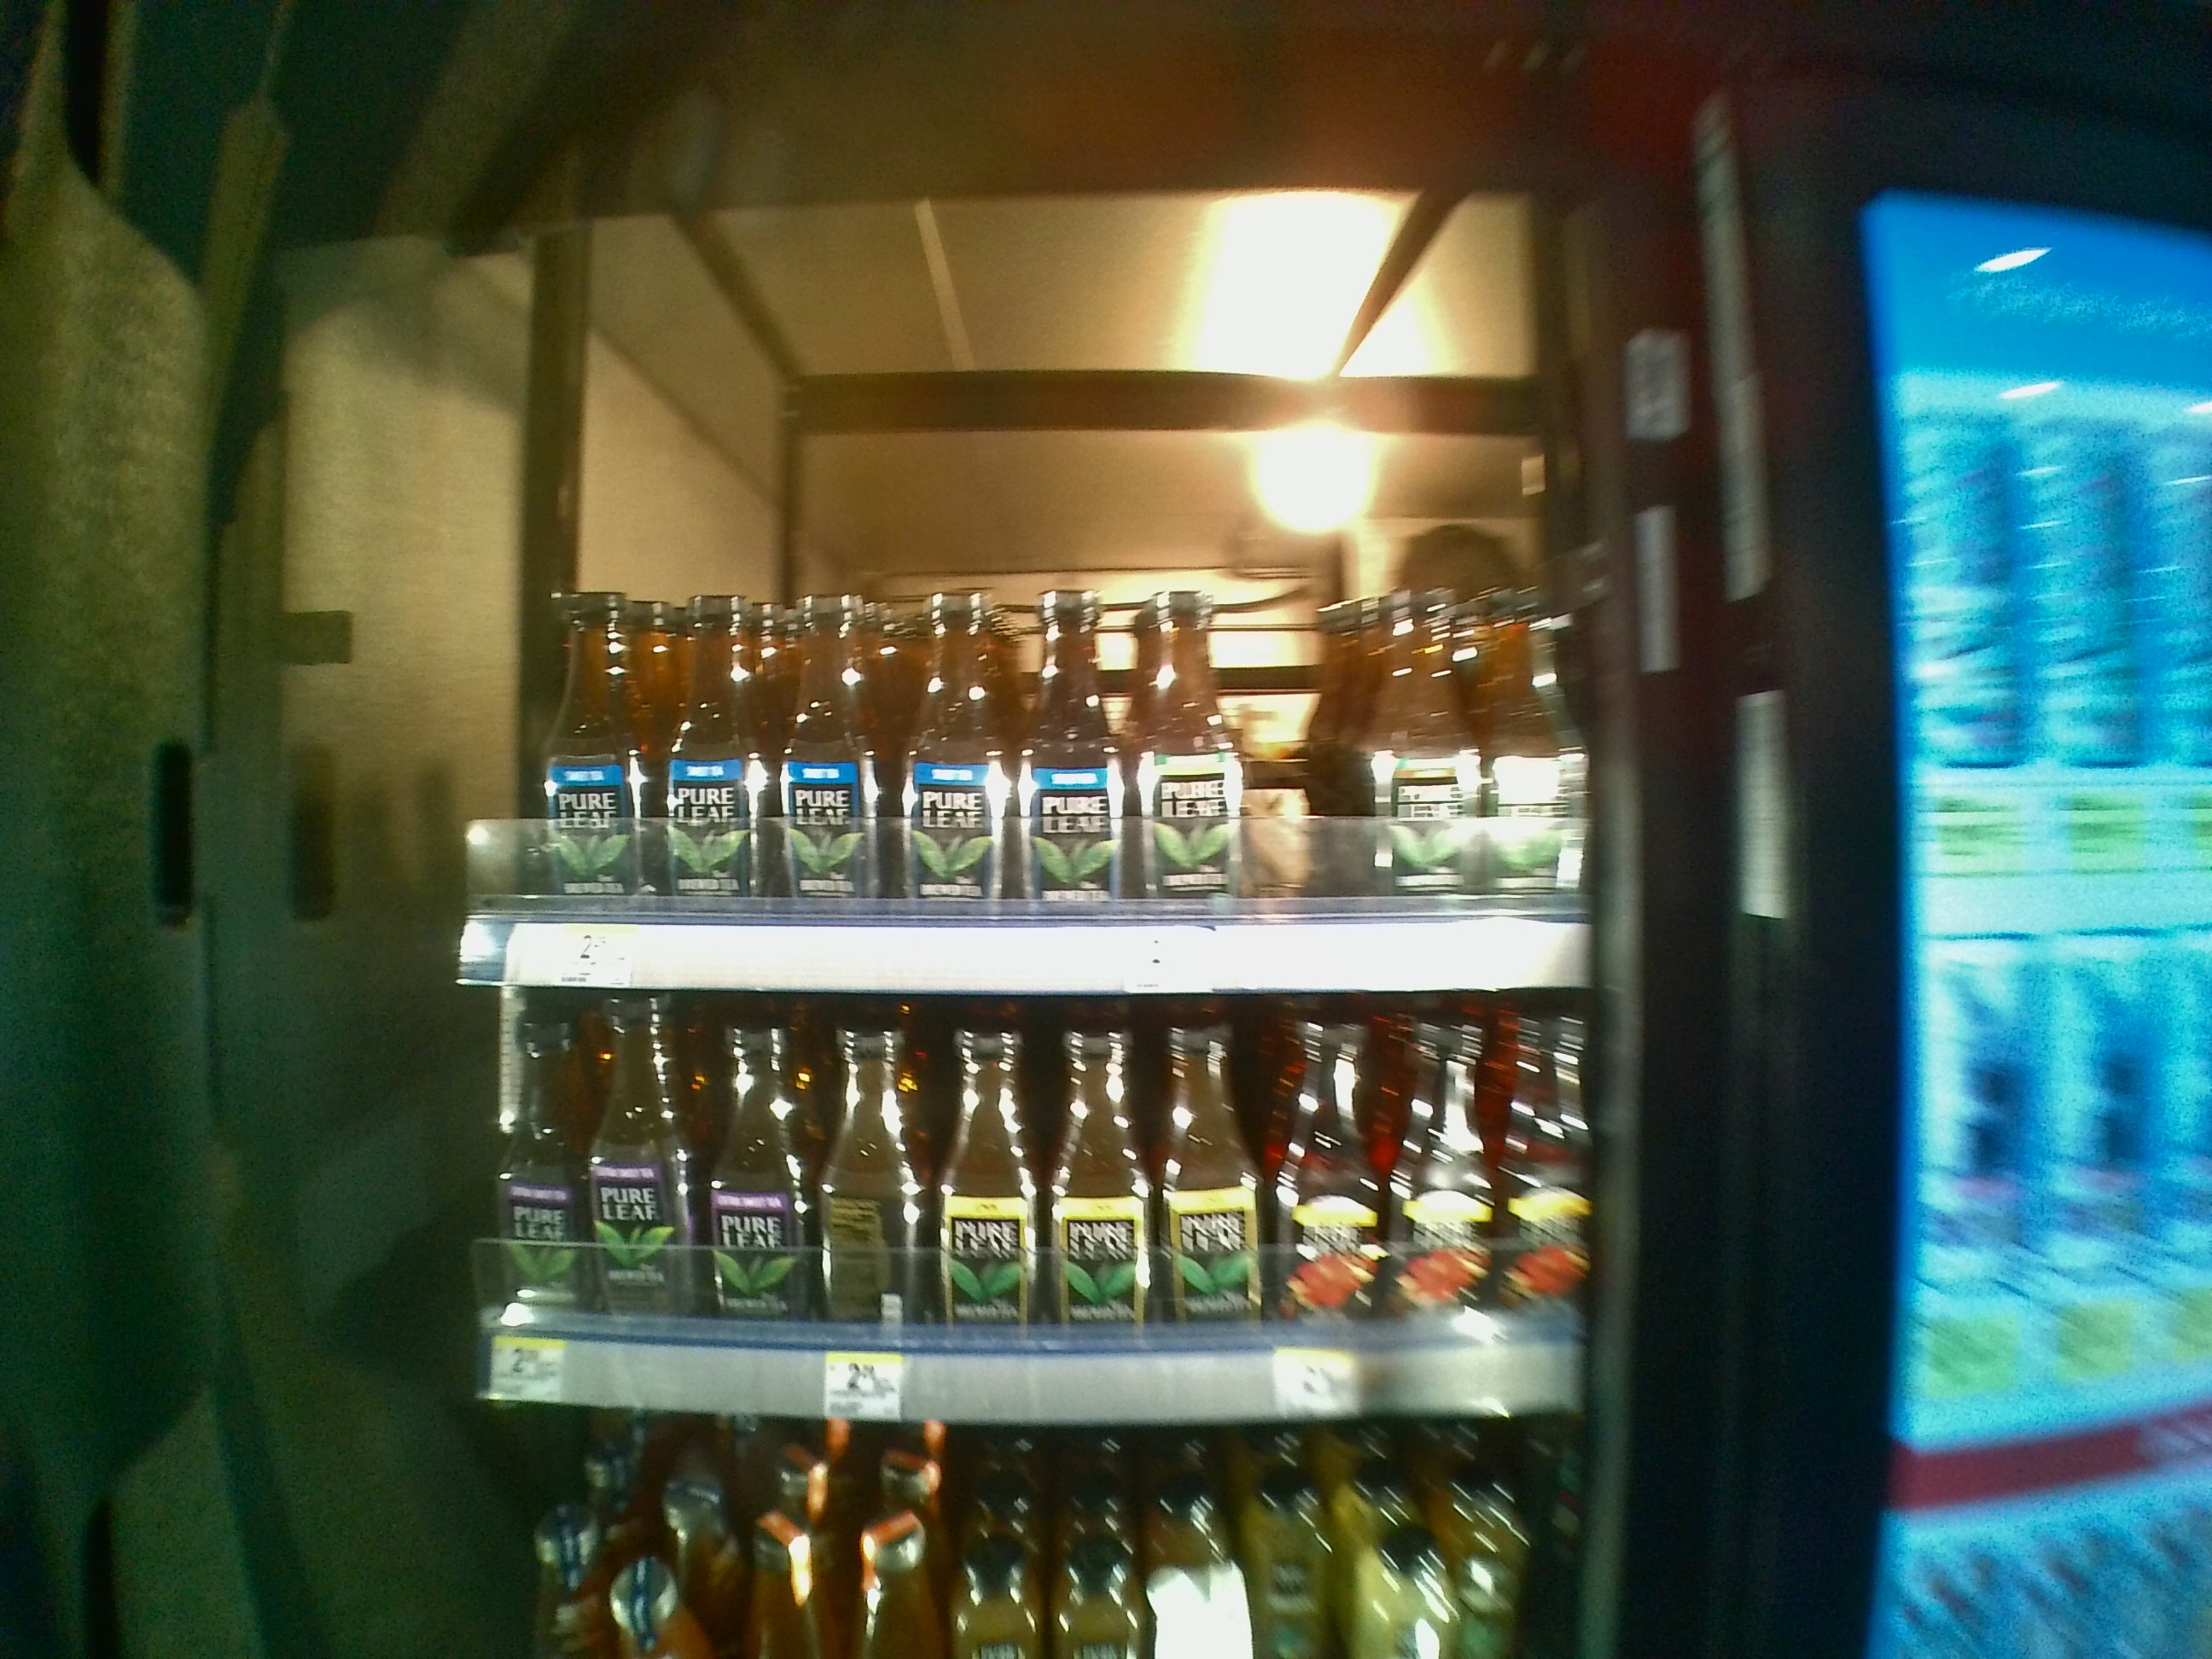shelf: (456, 209, 1583, 993), (460, 1000, 1601, 1413)
